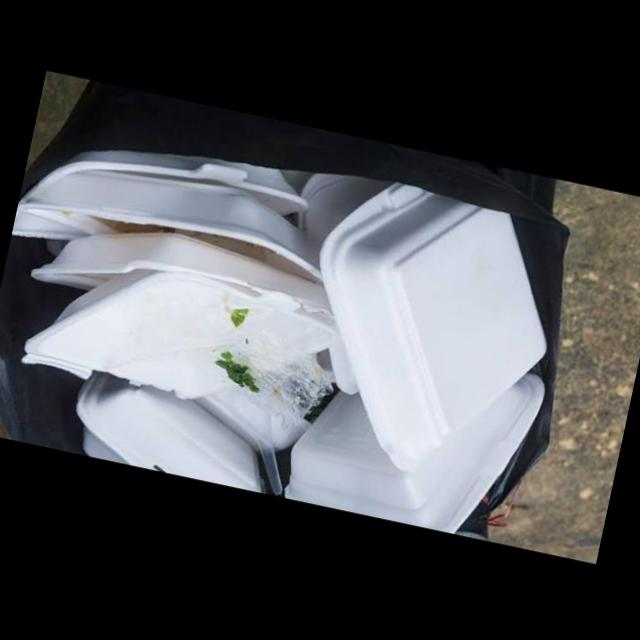tui_ni_long: (219, 349, 334, 428)
xop: (319, 182, 547, 470), (22, 268, 338, 402), (286, 371, 545, 534), (16, 169, 322, 282), (31, 231, 333, 323), (75, 369, 261, 493), (56, 148, 308, 214), (296, 170, 394, 262), (194, 384, 307, 452)
